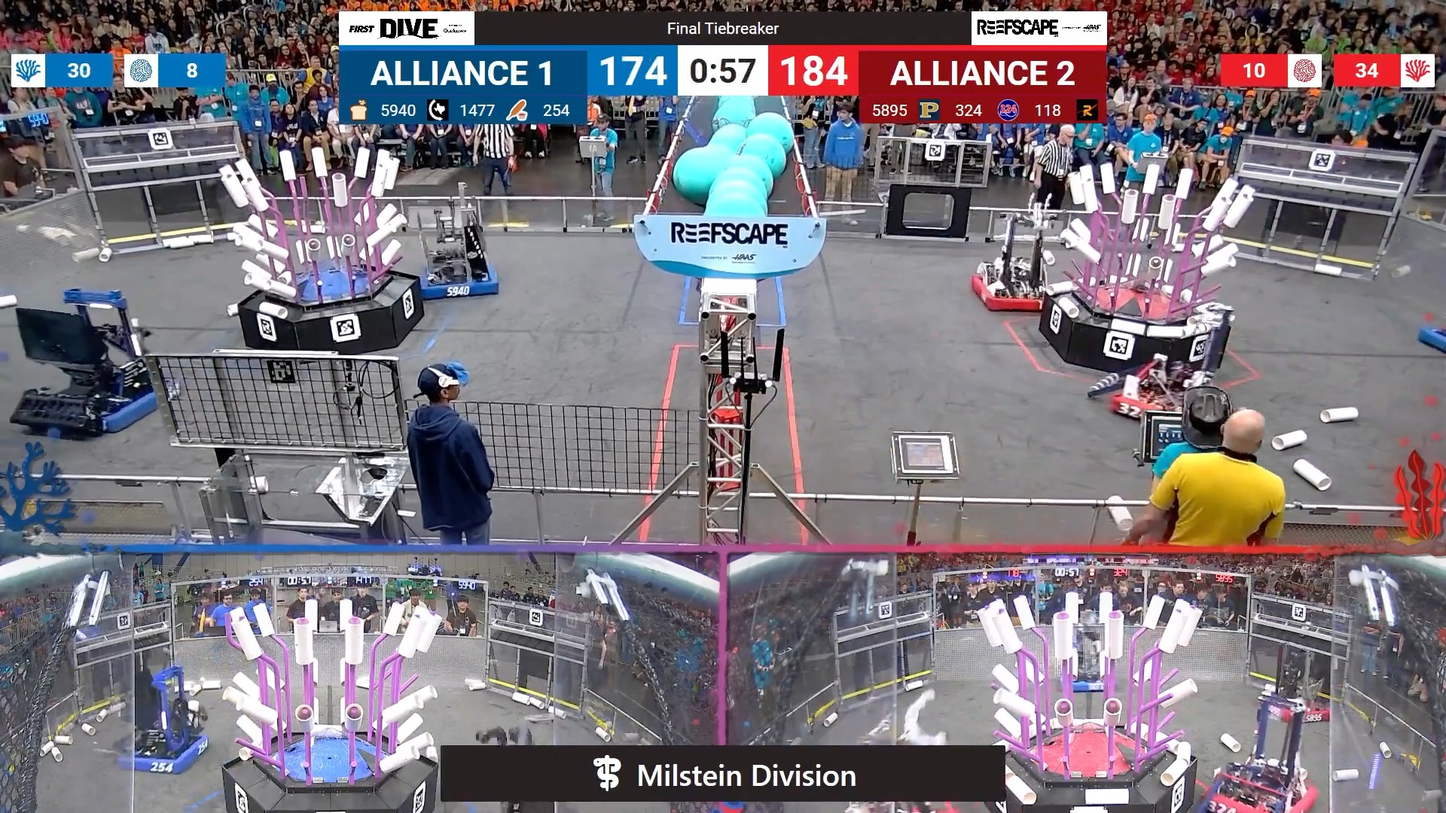bumpers: (21, 373, 174, 440), (1201, 763, 1326, 813), (1103, 372, 1211, 425), (118, 729, 218, 780), (410, 256, 504, 302), (964, 274, 1055, 320), (1261, 692, 1339, 725), (1412, 314, 1446, 369)
